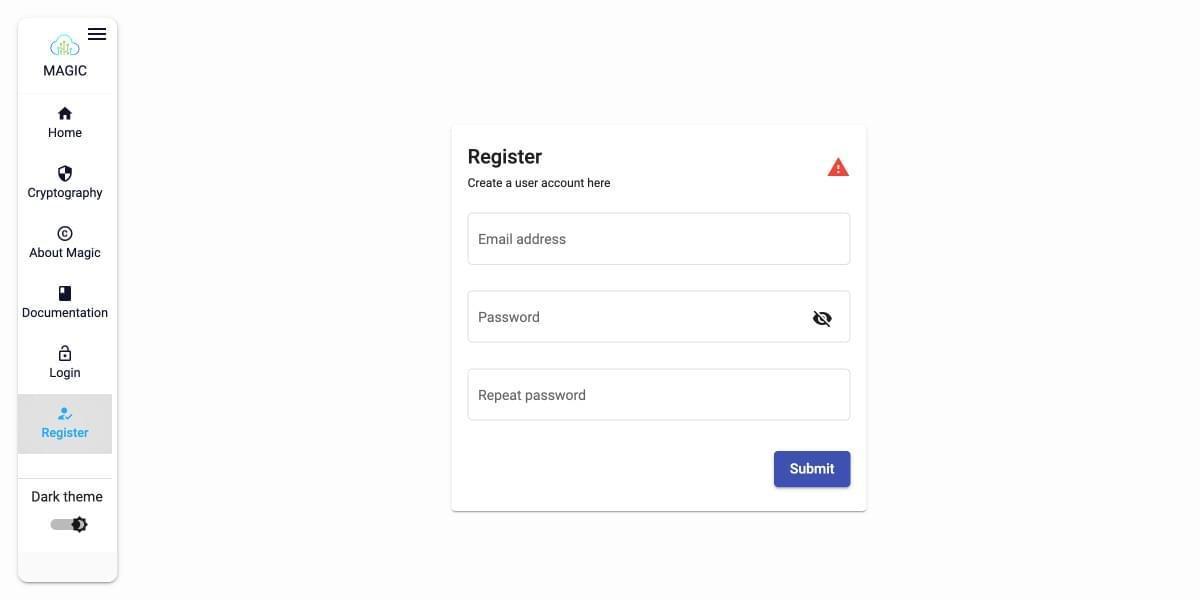icon: (809, 306, 838, 332), (826, 155, 851, 181), (57, 224, 77, 244), (57, 166, 75, 185), (57, 286, 76, 303), (89, 27, 109, 43), (57, 406, 74, 423), (57, 106, 75, 122), (58, 345, 74, 363)
input: (469, 289, 852, 348), (467, 369, 852, 426), (468, 212, 851, 266), (774, 451, 853, 490)
label: (466, 178, 613, 189), (469, 150, 545, 170), (23, 306, 110, 320), (29, 246, 103, 261), (28, 187, 107, 201), (32, 490, 105, 505), (45, 63, 91, 79), (42, 427, 91, 441), (49, 367, 84, 382), (49, 127, 84, 140)
switch: (52, 516, 89, 535)
